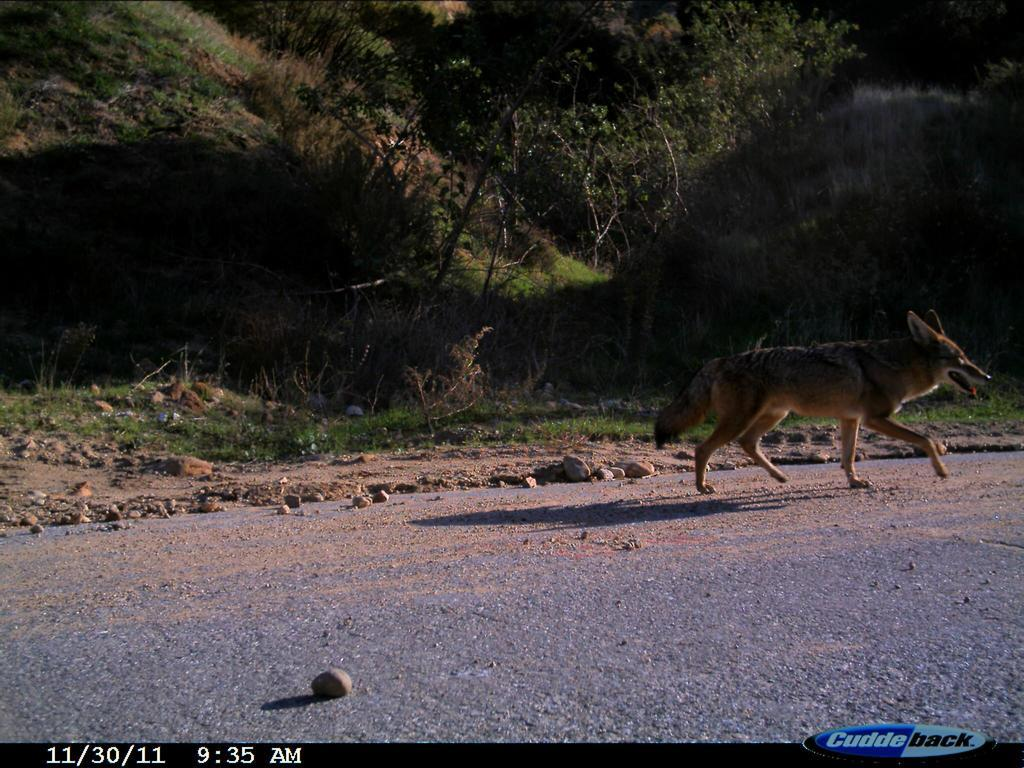coyote: (648, 296, 998, 518)
